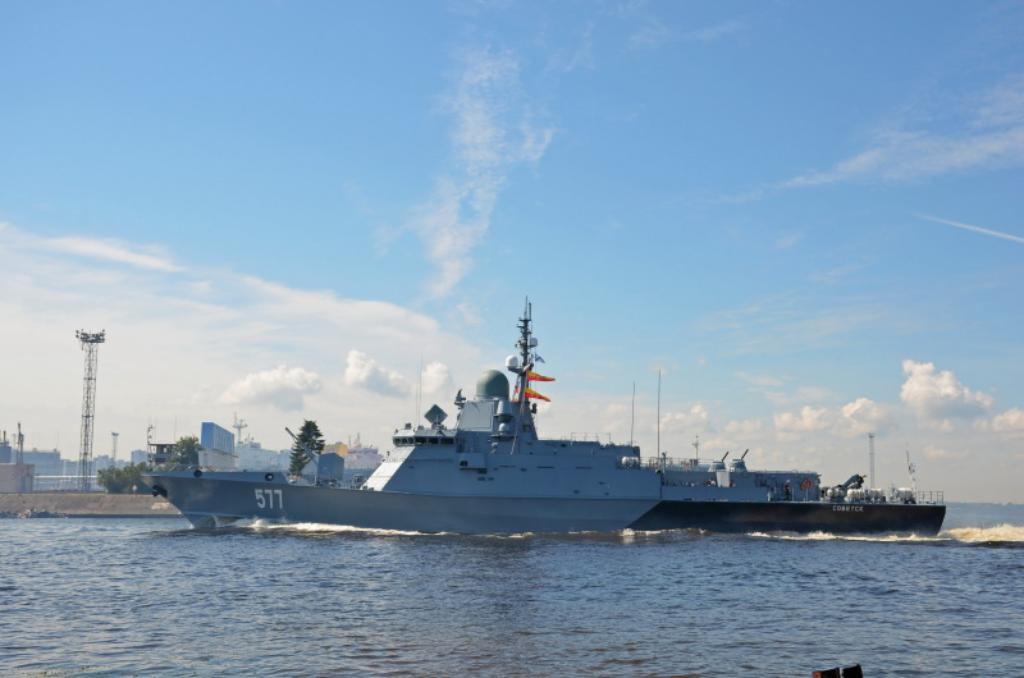Warship: (134, 293, 948, 535)
